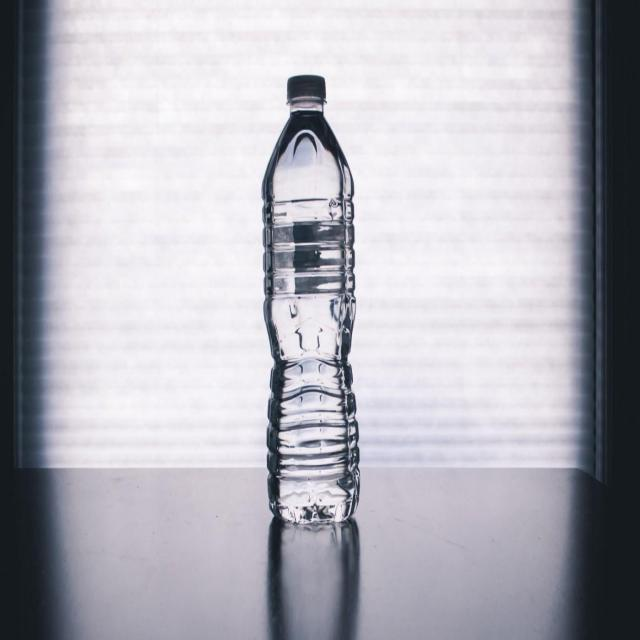bottle: (252, 62, 368, 530)
